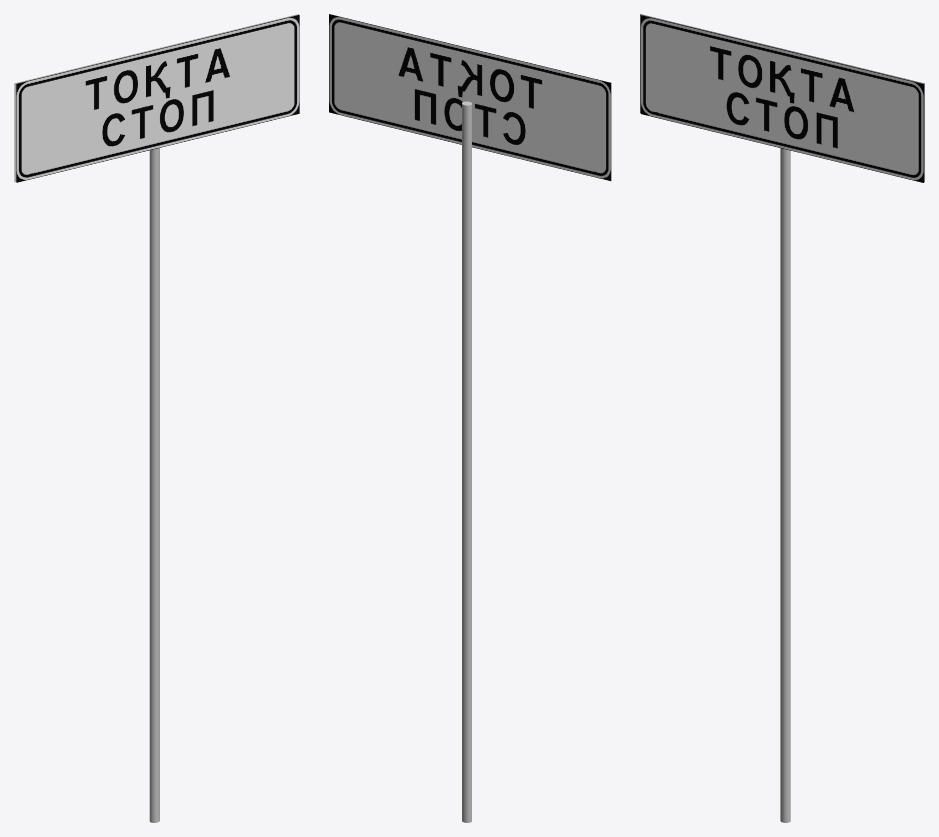
The model's file is StopKZ.glb.
3 views of the same model, side by side, from view 1: azimuth 30°, elevation 25°; view 2: azimuth 150°, elevation 25°; view 3: azimuth 330°, elevation 25° (orthographic).
Parts seen in each view (by area): view 1: Plane, Cylinder, Plane.001; view 2: Plane, Cylinder; view 3: Plane, Cylinder, Plane.001.
Part boxes in pixels (x1,y1,x2,y2): Plane: (16,15,299,182); Cylinder: (149,148,159,822); Plane.001: (14,14,298,182); Plane: (329,14,611,180); Cylinder: (462,101,471,822); Plane: (640,15,923,182); Cylinder: (780,148,790,822); Plane.001: (640,14,924,182).
Size of the model in its own units: 6.03 by 15.65 by 0.2044.
Materials: 1 (1 with a texture image).
